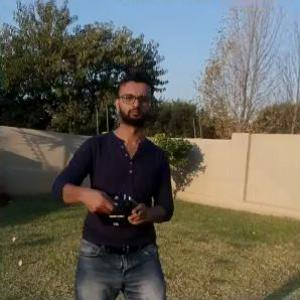follow: (48, 67, 176, 299)
